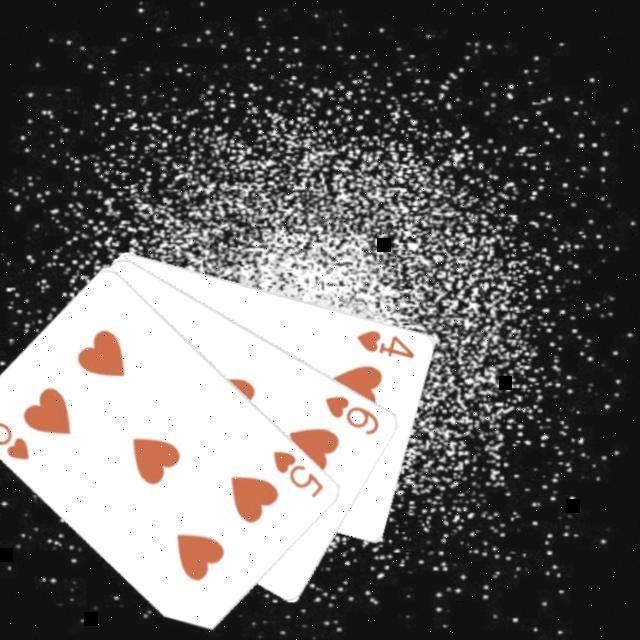4H: (354, 324, 420, 359)
5H: (271, 446, 330, 500), (0, 408, 36, 462)
6H: (322, 389, 385, 436)
